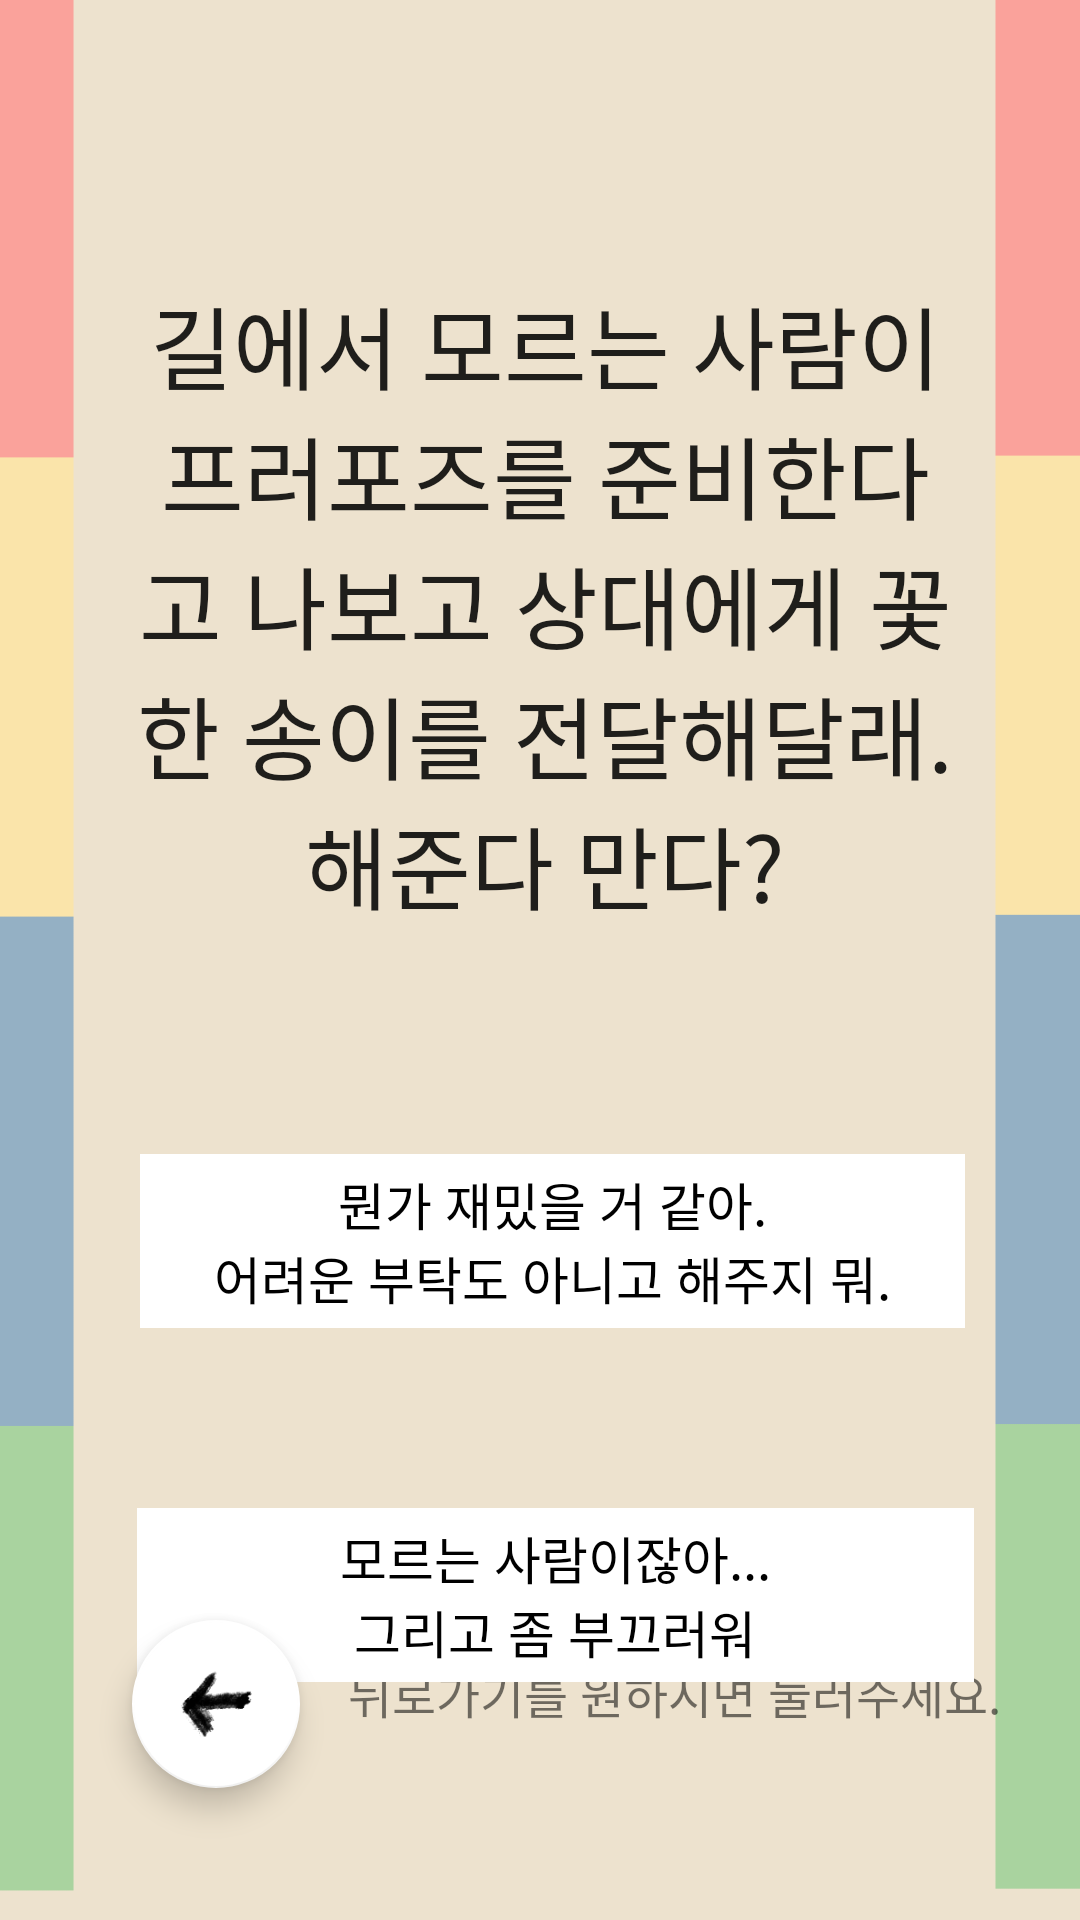

Icon click points for this 1080 x 1920 phone screenshot, format point (x, y):
back: point (216, 1704)
